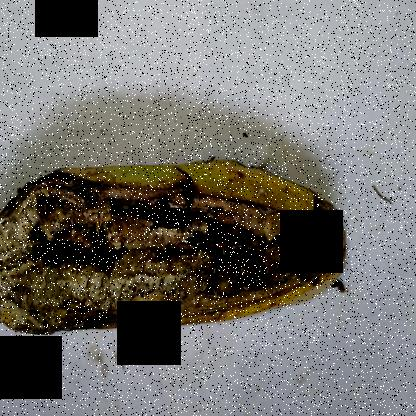rotten: (0, 147, 354, 348)
